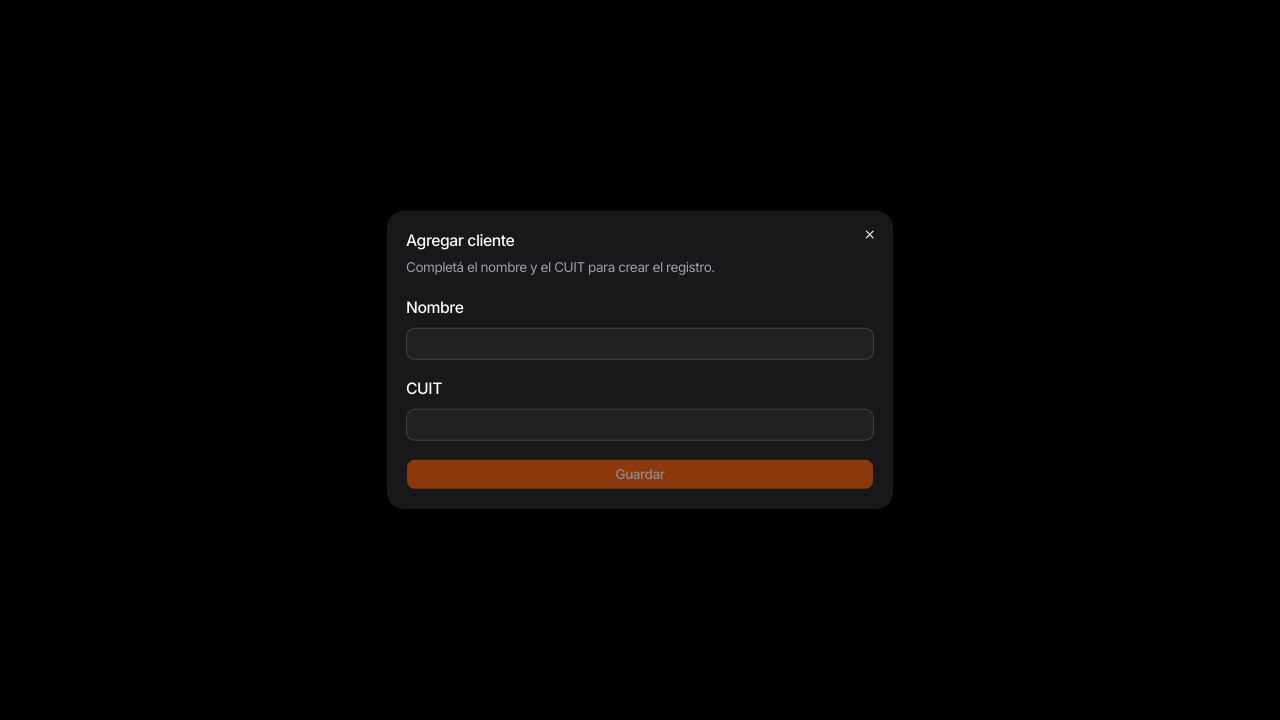
Test: ClientSupplierModal › keeps the submit button disabled until name and cuit are completed
Expected: the button "Guardar" is disabled, x1=406 y1=459 x2=874 y2=490
Type "Acme" into the field labelled "Nombre" at (640, 344), box x1=406 y1=328 x2=874 y2=360
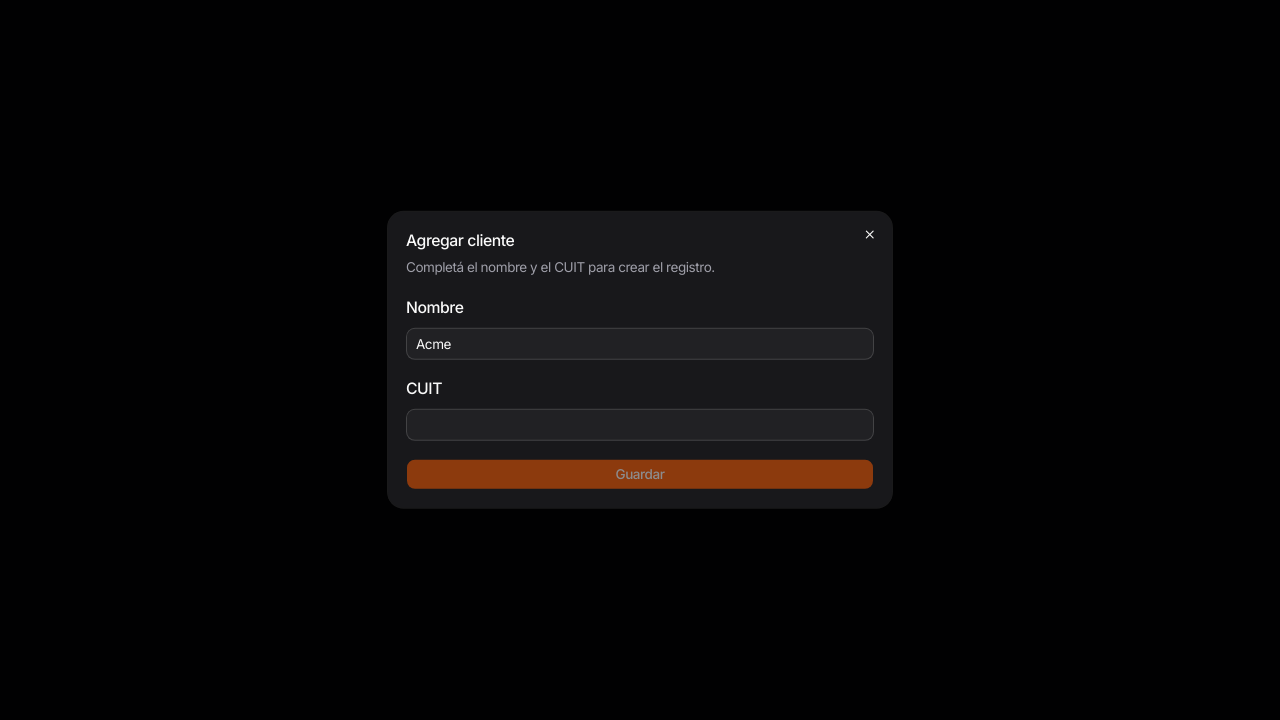
Expected: the button "Guardar" is disabled, x1=406 y1=459 x2=874 y2=490
Type "20-12345678-3" into the field labelled "CUIT" at (640, 425), box x1=406 y1=409 x2=874 y2=441
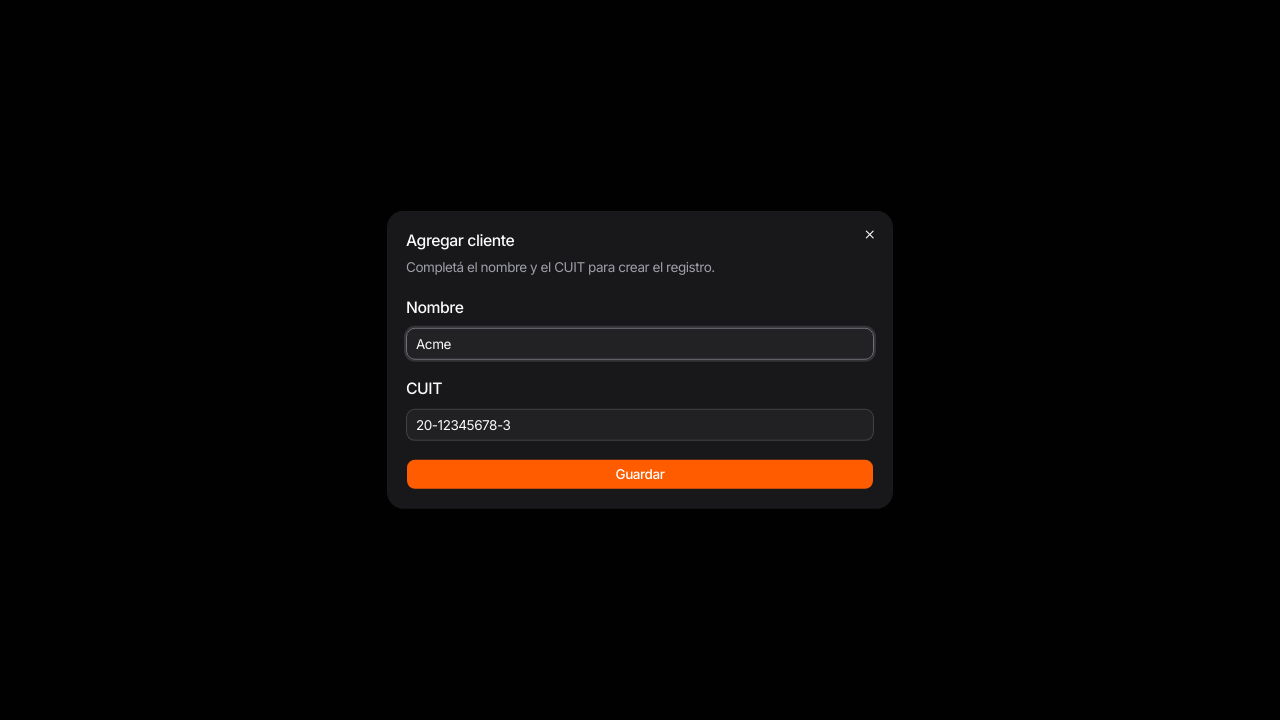
Result: the button "Guardar" is enabled at x1=406 y1=459 x2=874 y2=490
